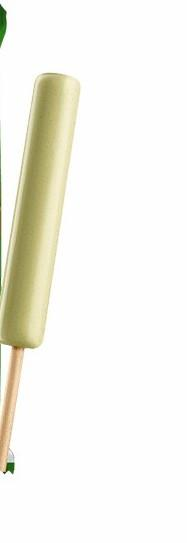Kulfi: (0, 74, 81, 345)
